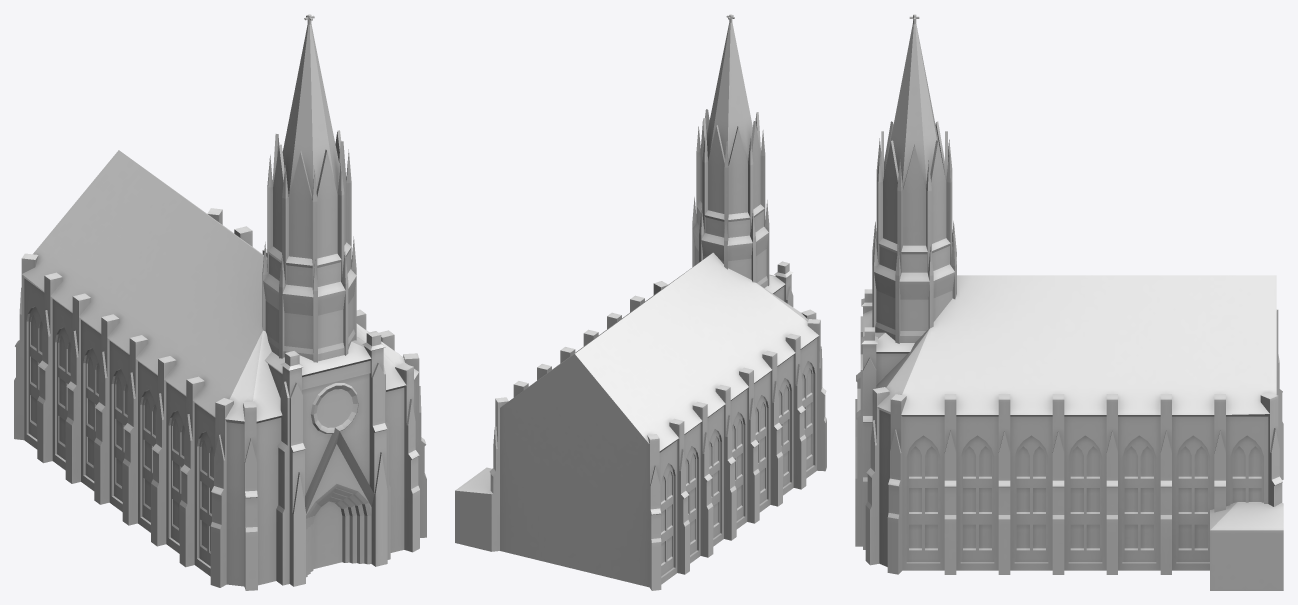
The model's file is soborlutiran.dae.
3 renders of one model, left to right at view 1: azimuth 30°, elevation 25°; view 2: azimuth 150°, elevation 25°; view 3: azimuth 270°, elevation 25°, orthographic. The views are drawn at different scales.
Parts seen in each view (by area): view 1: soborlutiran; view 2: soborlutiran; view 3: soborlutiran.
Boxes of the visible parts, x1,y1,x2,y2 form: soborlutiran: (14,14,426,590); soborlutiran: (455,14,826,590); soborlutiran: (855,14,1283,590).
Size of the model in its own units: 0.0348 by 0.0543 by 0.0714.
1 material, 1 textured.
